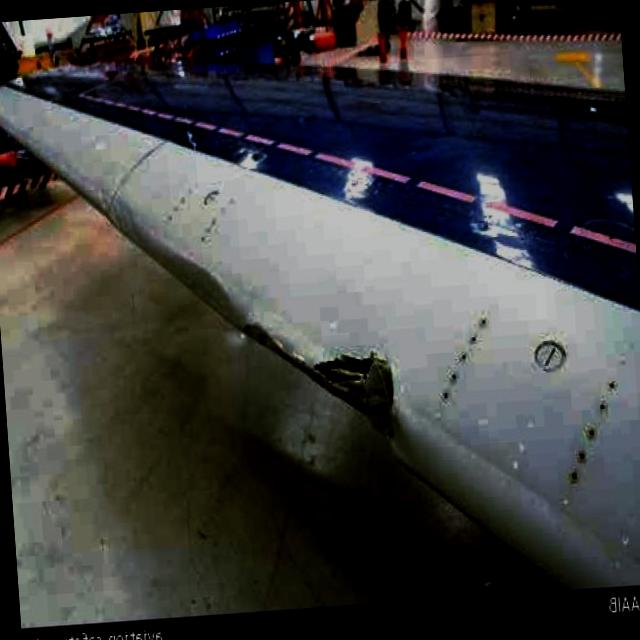crack: (318, 348, 396, 445)
dent: (150, 240, 236, 332), (239, 316, 284, 354)
